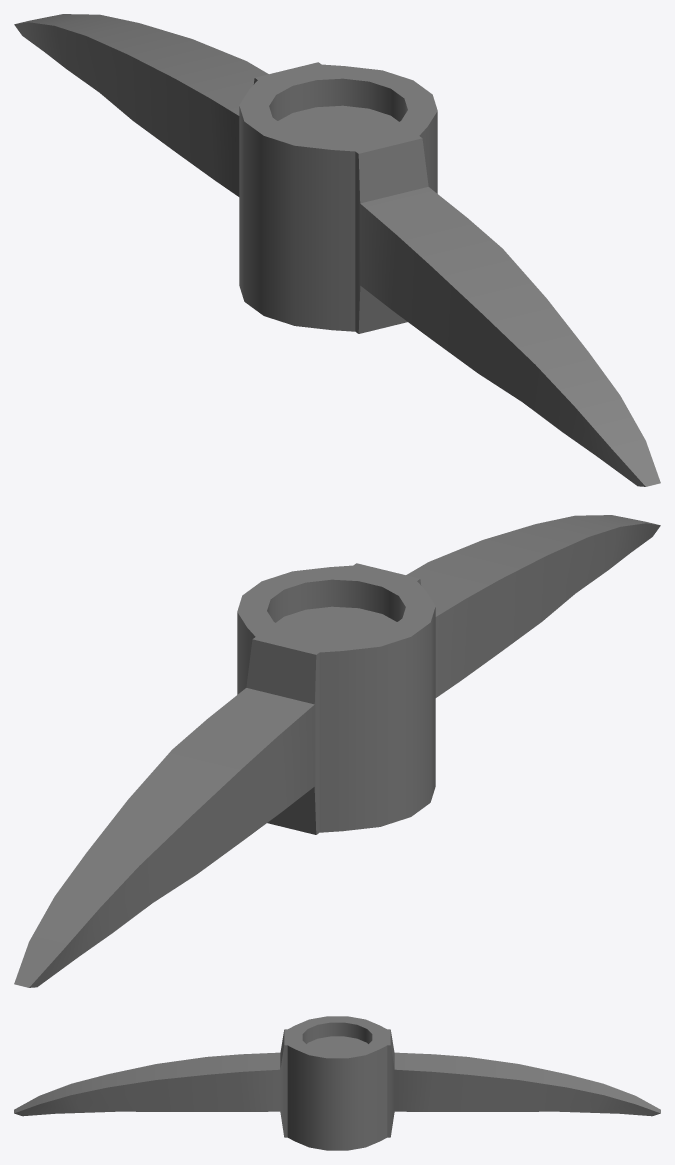
The model's file is pickDoubleHead.obj.
The picture shows the model from 3 angles, top to bottom: view 1: azimuth 30°, elevation 25°; view 2: azimuth 150°, elevation 25°; view 3: azimuth 270°, elevation 25°; orthographic projection. The views are drawn at different scales.
Visible parts, largest first — view 1: Cylinder.004; view 2: Cylinder.004; view 3: Cylinder.004.
Boxes of the visible parts, x1=… form: Cylinder.004: x1=14, y1=14, x2=660, y2=486; Cylinder.004: x1=14, y1=515, x2=660, y2=987; Cylinder.004: x1=14, y1=1016, x2=660, y2=1150.
Size of the model in its own units: 1.96 by 2 by 12.71.
1 material, 1 textured.
